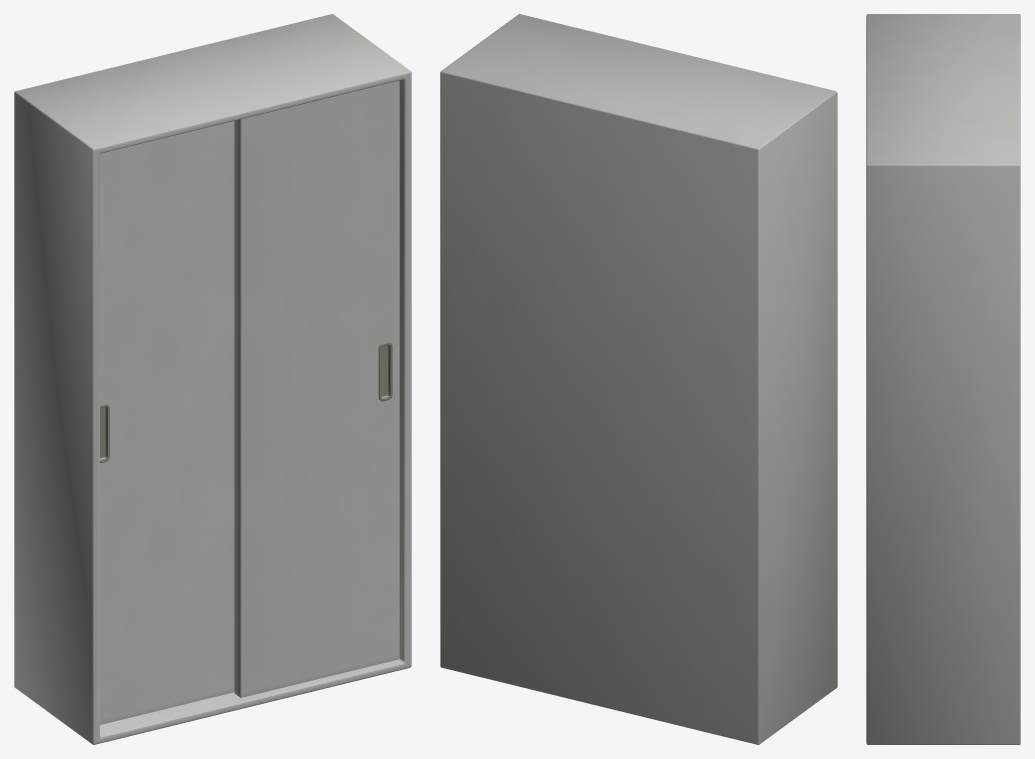
The model's file is Shelf_C.fbx.
The picture shows the model from 3 angles, left to right: view 1: azimuth 30°, elevation 25°; view 2: azimuth 150°, elevation 25°; view 3: azimuth 270°, elevation 25°; orthographic projection. The views are drawn at different scales.
Parts seen in each view (by area): view 1: Shelf_C; view 2: Shelf_C; view 3: Shelf_C.
Boxes of the visible parts, box(x1,y1,x2,y2) form: Shelf_C: box(14, 14, 411, 744); Shelf_C: box(440, 14, 837, 744); Shelf_C: box(866, 14, 1020, 744).
Size of the model in its own units: 1.53 by 2.74 by 0.659.
